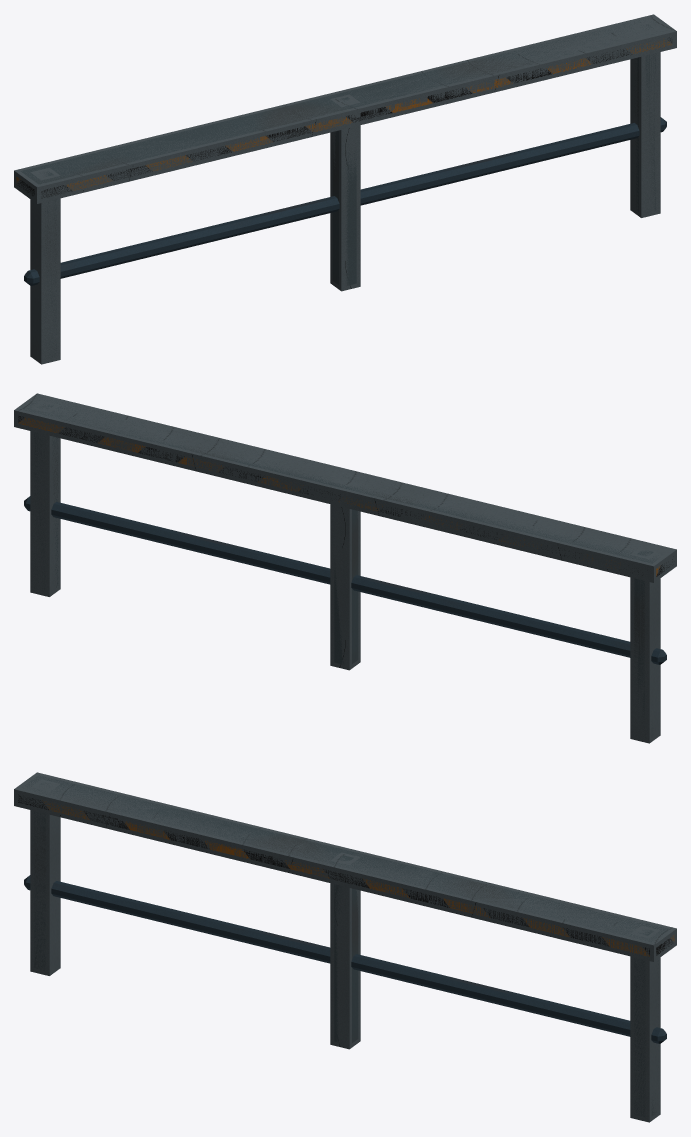
Rendered from Platform_Rail4.fbx.
3 renders of one model, top to bottom at view 1: azimuth 30°, elevation 25°; view 2: azimuth 150°, elevation 25°; view 3: azimuth 330°, elevation 25°, orthographic.
Visible parts, largest first — view 1: ENV_Foundry_Platform_Rail4_LOD0, COL_Foundry_Platform_Rail4_00_Both, COL_Foundry_Platform_Rail4_01_Both, COL_Foundry_Platform_Rail4_03_Both, COL_Foundry_Platform_Rail4_02_Both; view 2: COL_Foundry_Platform_Rail4_00_Both, ENV_Foundry_Platform_Rail4_LOD0, COL_Foundry_Platform_Rail4_03_Both, COL_Foundry_Platform_Rail4_01_Both, COL_Foundry_Platform_Rail4_02_Both; view 3: ENV_Foundry_Platform_Rail4_LOD0, COL_Foundry_Platform_Rail4_00_Both, COL_Foundry_Platform_Rail4_03_Both, COL_Foundry_Platform_Rail4_01_Both, COL_Foundry_Platform_Rail4_02_Both.
Part boxes in pixels (x1,y1,x2,y2): ENV_Foundry_Platform_Rail4_LOD0: (16, 18, 671, 358); COL_Foundry_Platform_Rail4_00_Both: (14, 14, 676, 203); COL_Foundry_Platform_Rail4_01_Both: (30, 167, 60, 364); COL_Foundry_Platform_Rail4_03_Both: (630, 21, 660, 217); COL_Foundry_Platform_Rail4_02_Both: (330, 94, 360, 291); COL_Foundry_Platform_Rail4_00_Both: (14, 393, 676, 582); ENV_Foundry_Platform_Rail4_LOD0: (18, 397, 672, 737); COL_Foundry_Platform_Rail4_03_Both: (30, 400, 60, 596); COL_Foundry_Platform_Rail4_01_Both: (630, 546, 660, 743); COL_Foundry_Platform_Rail4_02_Both: (330, 473, 360, 670); ENV_Foundry_Platform_Rail4_LOD0: (18, 775, 674, 1116); COL_Foundry_Platform_Rail4_00_Both: (14, 772, 676, 961); COL_Foundry_Platform_Rail4_03_Both: (630, 925, 660, 1122); COL_Foundry_Platform_Rail4_01_Both: (30, 779, 60, 975); COL_Foundry_Platform_Rail4_02_Both: (330, 852, 360, 1049).
Size of what is drawn, in the model's own units: 4 by 1.1 by 0.25.
